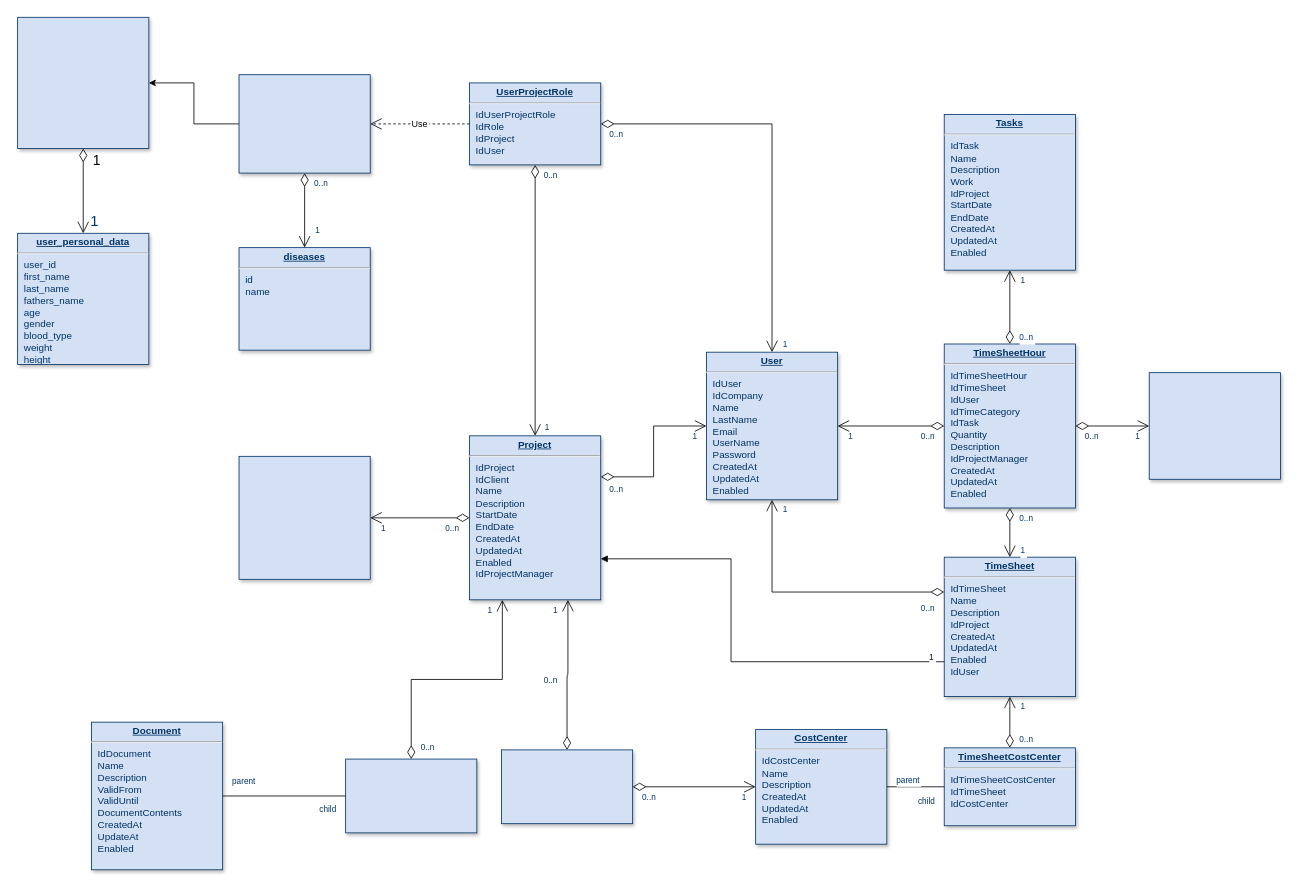
The diagram is 1300 pixels wide and 891 high, and some of its shapes have lost their labels. The centre of each missing label's shape, as x and y in pixels:
"Client IdClient IdCompany Name Description CreatedAt UpdatedAt Enabled" goes at (305,518).
"ProjectCostCenter IdProjectCostCenter IdProject IdCostCenter" goes at (567,787).
"ProjectDocument IdProjectDocument IdProject IdDocument" goes at (412,797).
"TimeCategory IdTimeCategory Name Description CreatedAt UpdatedAt Enabled" goes at (1215,427).
"users Id phone nation_code password email is_active" goes at (84,83).
"users_diseases user_id disease_id note" goes at (305,125).
